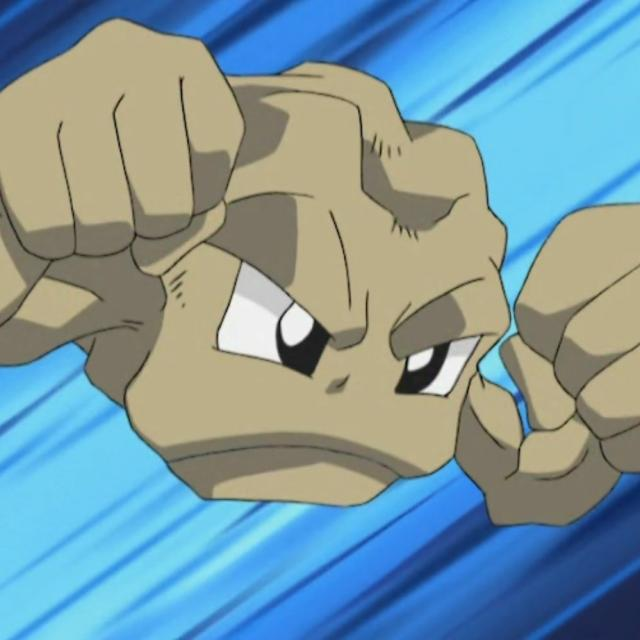Geodude: (12, 69, 640, 501)
